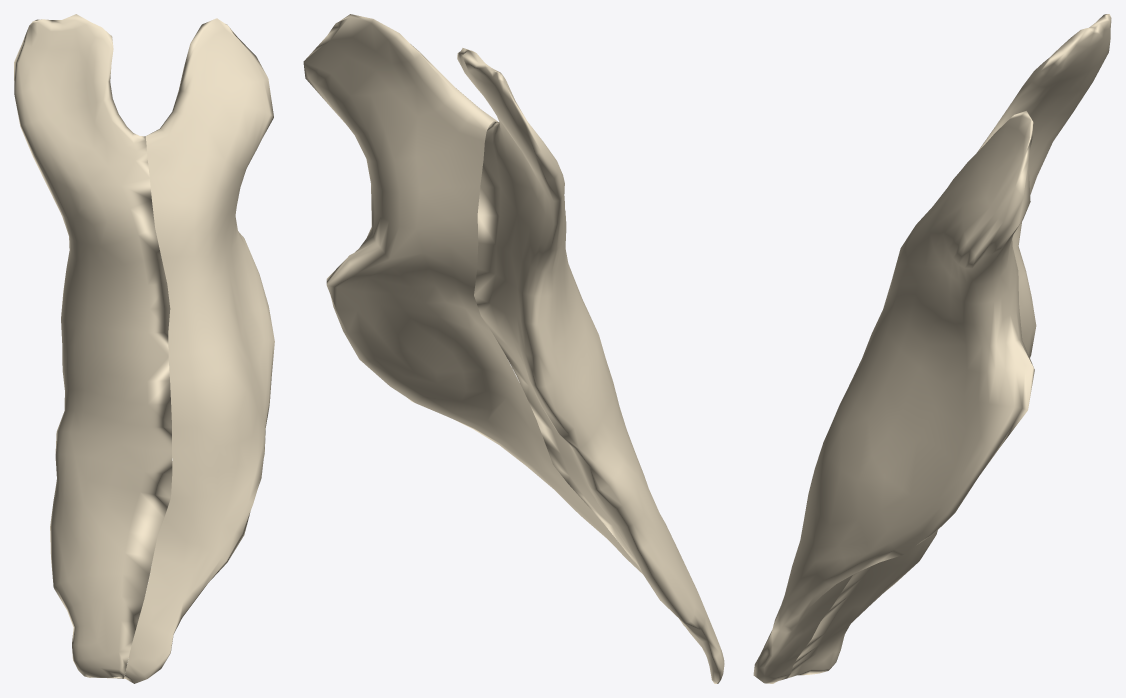
Rendered from vh_m_thymus-80.glb.
3 views of the same model, side by side, from view 1: azimuth 30°, elevation 25°; view 2: azimuth 150°, elevation 25°; view 3: azimuth 270°, elevation 25° (orthographic). The views are drawn at different scales.
Parts seen in each view (by area): view 1: VH_M_thymus_lobe_L, VH_M_thymus_lobe_R; view 2: VH_M_thymus_lobe_R, VH_M_thymus_lobe_L; view 3: VH_M_thymus_lobe_R, VH_M_thymus_lobe_L.
Part boxes in pixels (x1,y1,x2,y2): VH_M_thymus_lobe_L: [14, 14, 172, 678]; VH_M_thymus_lobe_R: [123, 18, 274, 683]; VH_M_thymus_lobe_R: [303, 14, 642, 573]; VH_M_thymus_lobe_L: [457, 48, 724, 683]; VH_M_thymus_lobe_R: [753, 111, 1034, 683]; VH_M_thymus_lobe_L: [788, 14, 1111, 677].
Bounding box in the file's own units: 0.037 × 0.0757 × 0.0351.
